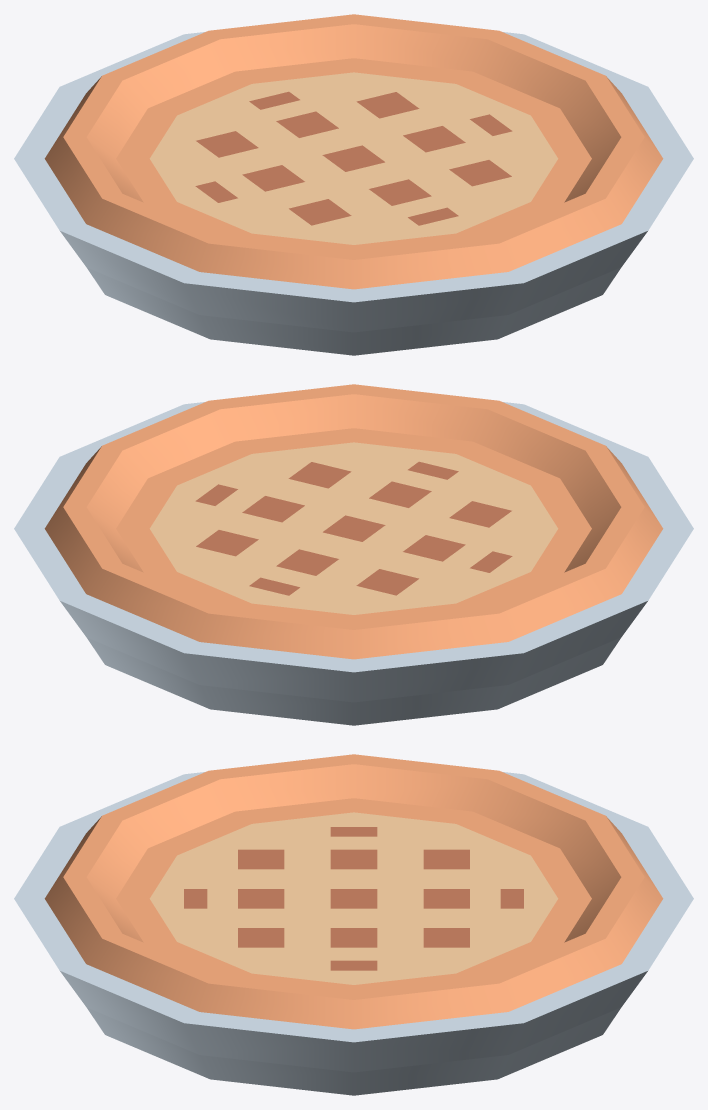
Rendered from pie.GLB.
The picture shows the model from 3 angles, top to bottom: view 1: azimuth 30°, elevation 25°; view 2: azimuth 150°, elevation 25°; view 3: azimuth 270°, elevation 25°; orthographic projection.
Visible parts, largest first — view 1: pie; view 2: pie; view 3: pie.
Boxes of the visible parts, bbox=[...] form: pie: bbox=[14, 14, 693, 355]; pie: bbox=[14, 384, 693, 725]; pie: bbox=[14, 754, 693, 1095].
Bounding box in the file's own units: 0.9504 × 0.1497 × 0.9504.
